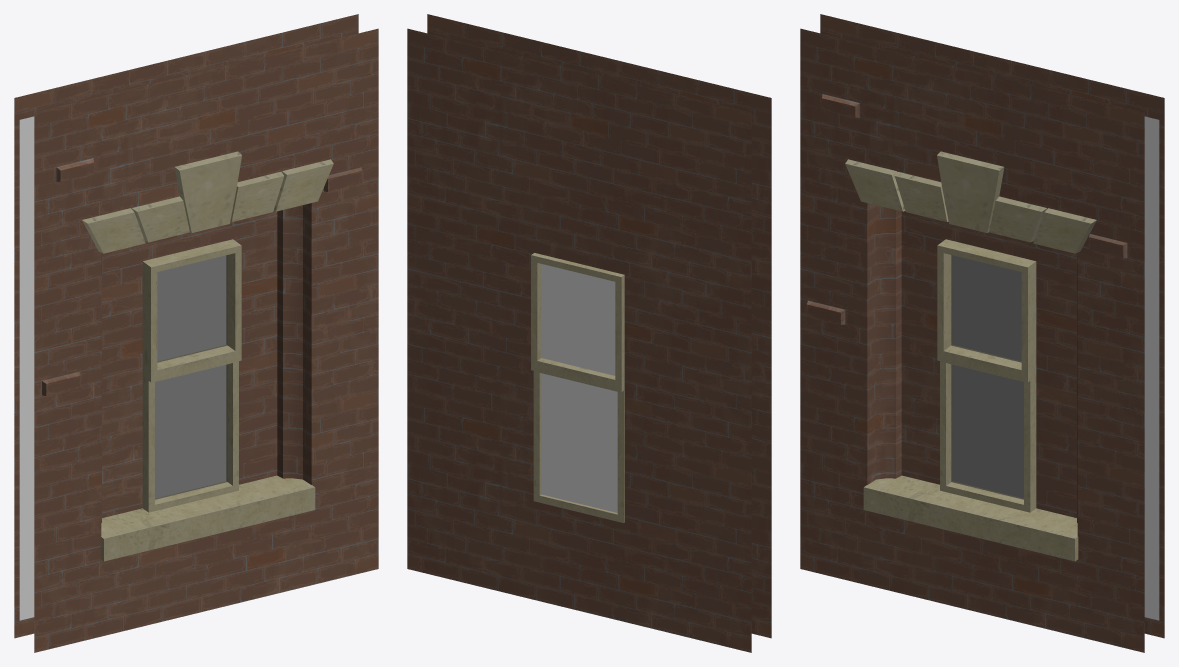
Rendered from Brick_Window_Trim_Single.gltf.
3 views of the same model, side by side, from view 1: azimuth 30°, elevation 25°; view 2: azimuth 150°, elevation 25°; view 3: azimuth 330°, elevation 25° (orthographic).
Parts seen in each view (by area): view 1: Brick_Window_Trim_Single; view 2: Brick_Window_Trim_Single; view 3: Brick_Window_Trim_Single.
Boxes of the visible parts, left/top/right/bottom form: Brick_Window_Trim_Single: left=14, top=14, right=378, bottom=652; Brick_Window_Trim_Single: left=407, top=14, right=771, bottom=652; Brick_Window_Trim_Single: left=800, top=14, right=1164, bottom=652.
Bounding box in the file's own units: 2 × 3 × 0.2769.
Materials: 5 (3 with a texture image).
